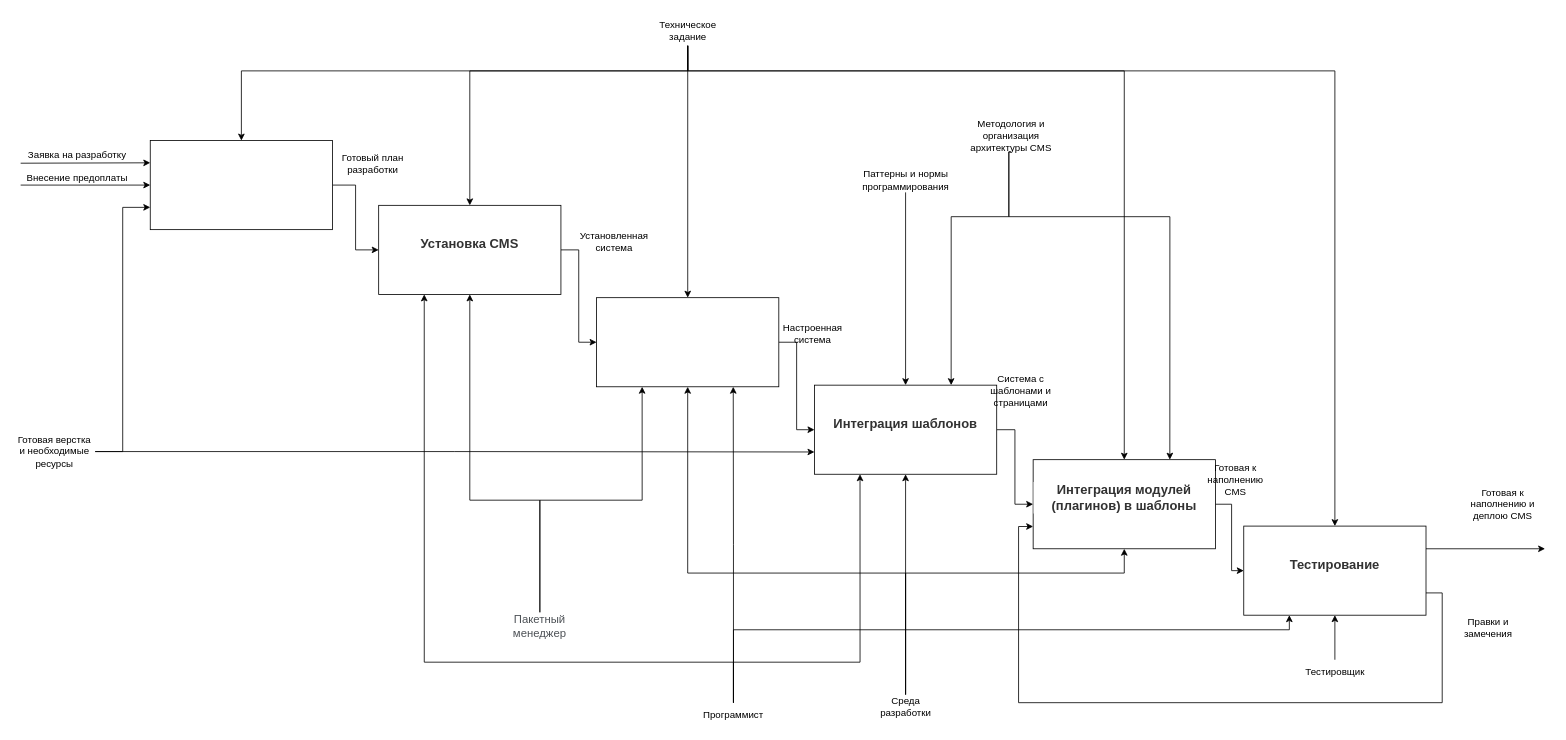
The diagram is 1566 pixels wide and 740 high, and some of its shapes have lost their labels. The box of each missing label's shape, as (x1, y1, x2, y2) in pixels:
Планирование процесса разработки: (149, 140, 333, 230)
Подключение/разработка модулей (плагинов): (596, 297, 779, 387)
